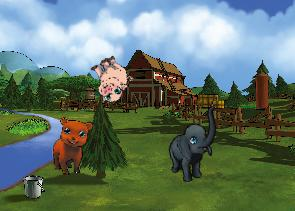bear: (52, 117, 94, 175)
elephant: (160, 105, 229, 185)
pig: (83, 51, 137, 106)
